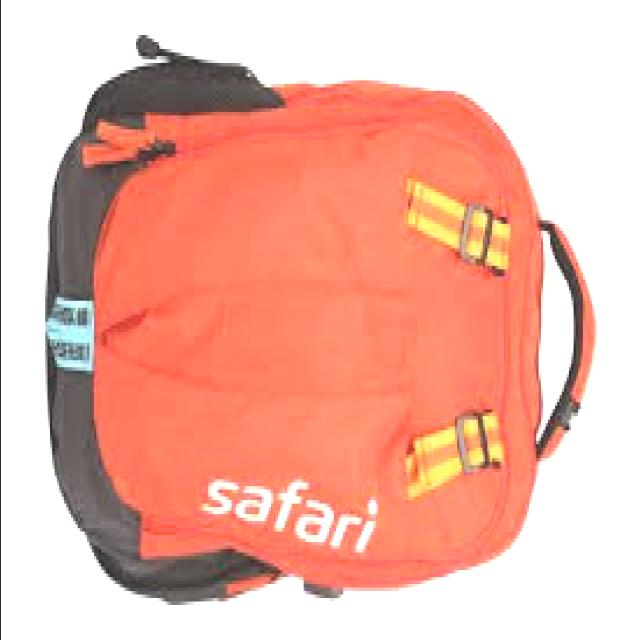backpack: (45, 33, 599, 607)
